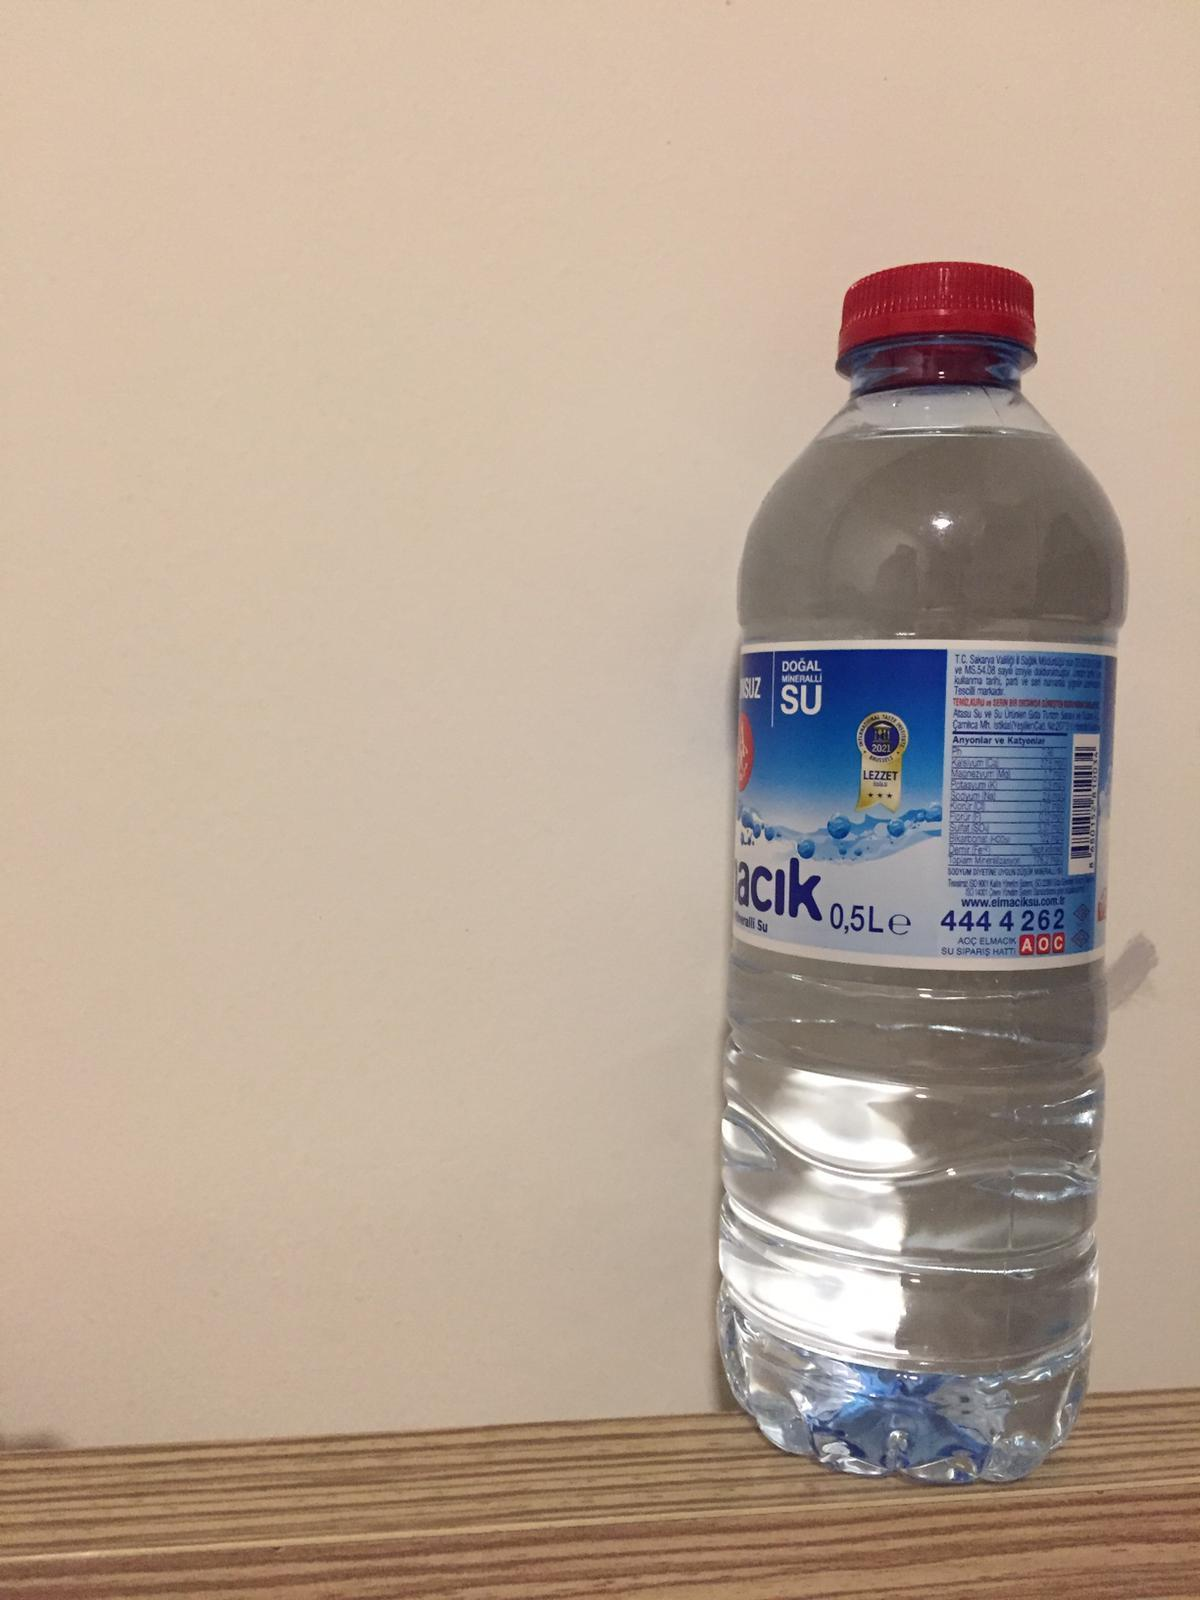bottle: (711, 251, 1119, 1489)
